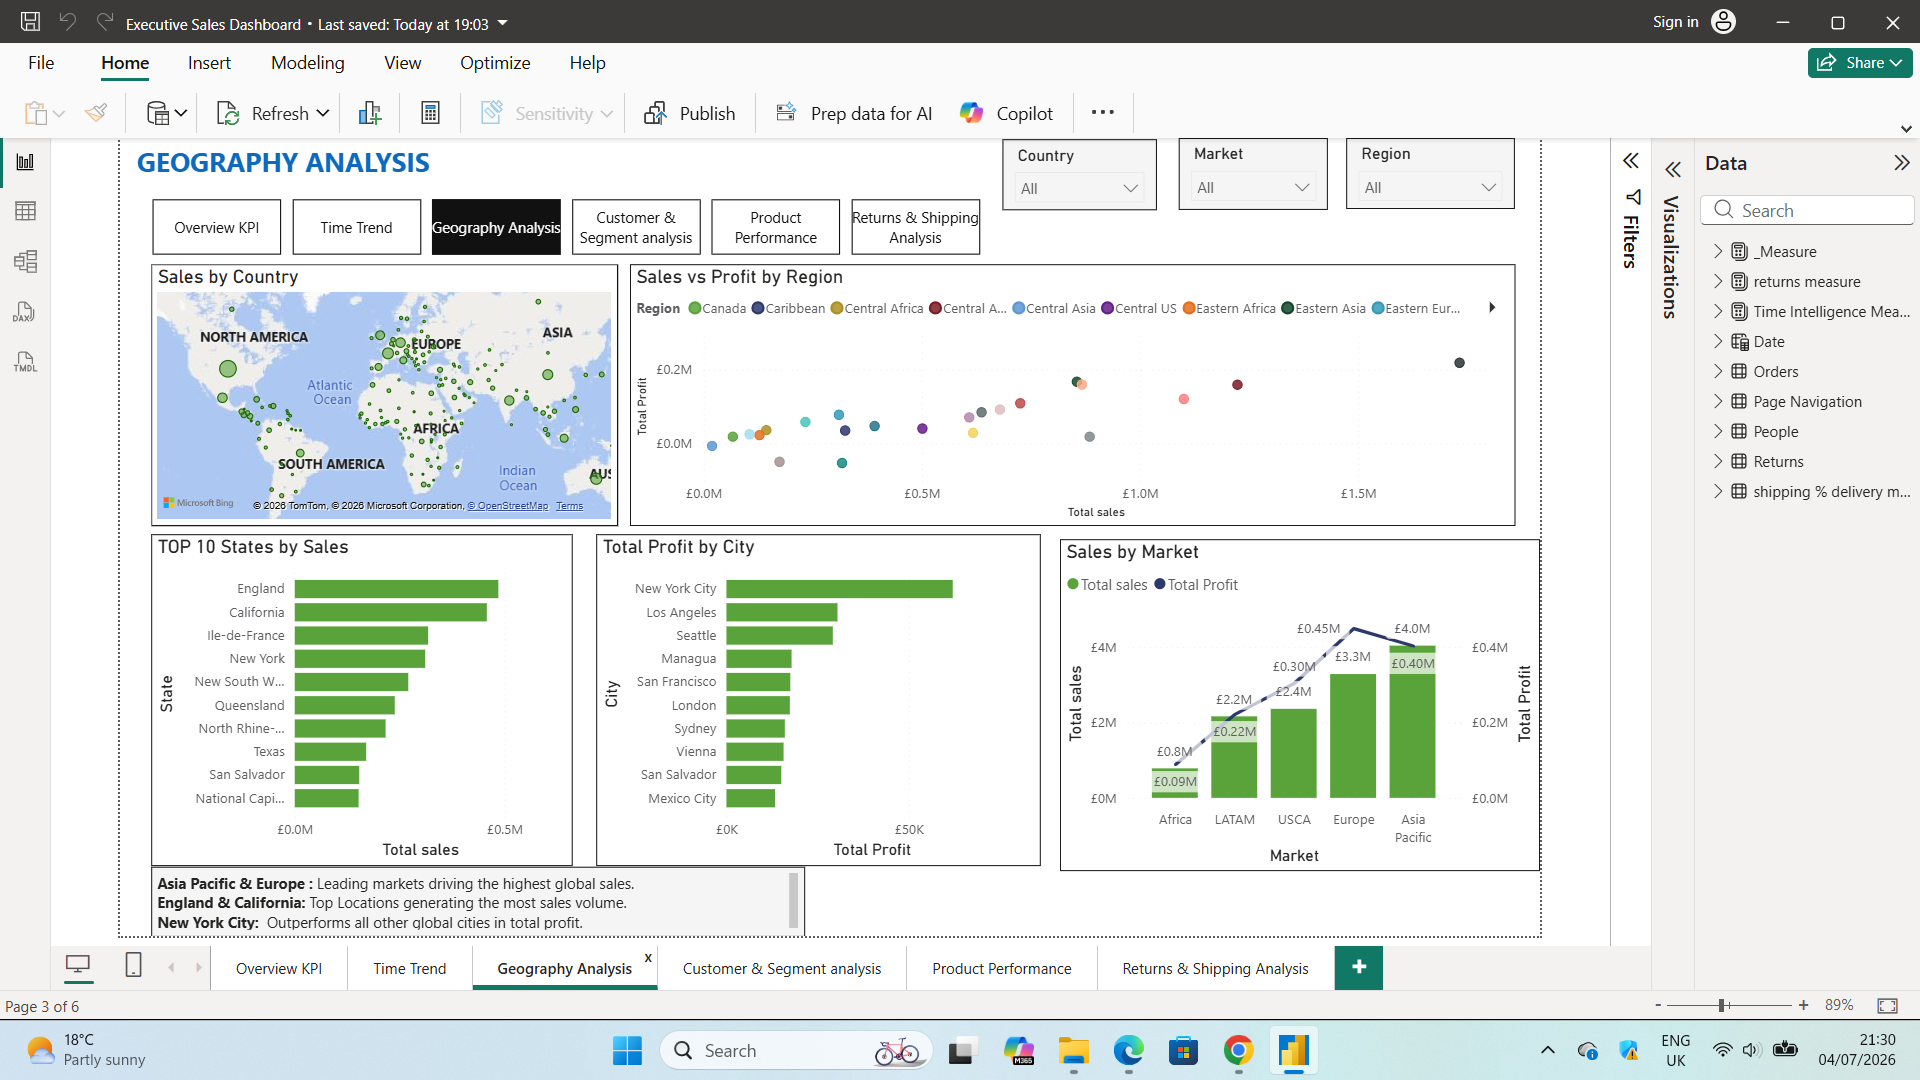

What the dashboard file says about the page in this screenshot:
{"tool":"powerbi","page":{"name":"Geography Analysis","canvas":[1280,720],"ordinal":2},"visuals":[{"type":"textbox","box":[9.8,0,280,55],"z":0},{"type":"lineClusteredColumnComboChart","title":"Sales by Market","fields":{"Category":["Orders.Market"],"Y":["_Measure.Total sales"],"Y2":["_Measure.Total Profit"]},"box":[847.3,361.7,432.7,299.1],"z":1000},{"type":"scatterChart","title":"Sales vs Profit by Region","fields":{"X":["_Measure.Total sales"],"Y":["_Measure.Total Profit"],"Series":["Orders.Region"]},"box":[459.8,114.2,798.2,235.7],"z":2000},{"type":"map","title":"Sales by Country","fields":{"Category":["Orders.Country"],"Size":["_Measure.Total sales"]},"box":[28.5,114.2,420.8,235.8],"z":3000},{"type":"clusteredBarChart","title":"TOP 10 States by Sales","fields":{"Category":["Orders.State"],"Y":["_Measure.Total sales"]},"box":[28.5,357.5,379.8,299.2],"z":4000},{"type":"barChart","fields":{"Category":["Orders.City"],"Y":["_Measure.Total Profit"]},"box":[429.5,357.5,400.9,299.2],"z":5000},{"type":"slicer","fields":{"Values":["Orders.Market"]},"box":[954.4,0,134.5,65.1],"z":6000},{"type":"slicer","fields":{"Values":["Orders.Region"]},"box":[1106.2,0,151.8,63.6],"z":7000},{"type":"slicer","fields":{"Values":["Orders.Country"]},"box":[795.3,1.4,138.8,63.6],"z":8000},{"type":"pageNavigator","box":[28.9,54.9,746.1,50.6],"z":9000},{"type":"textbox","box":[28.5,656.6,589.6,63.3],"z":10000}]}

Visuals, with their boxes on the page's 1280x720 design canvas (x1, y1, x2, y2). These are canvas units, not pixel positions in the 1920x1080 screenshot, which may show the page scaled, cropped or inside an application window:
textbox: {"x1": 10, "y1": 0, "x2": 290, "y2": 55}
"Sales by Market" lineClusteredColumnComboChart: {"x1": 847, "y1": 362, "x2": 1280, "y2": 661}
"Sales vs Profit by Region" scatterChart: {"x1": 460, "y1": 114, "x2": 1258, "y2": 350}
"Sales by Country" map: {"x1": 28, "y1": 114, "x2": 449, "y2": 350}
"TOP 10 States by Sales" clusteredBarChart: {"x1": 28, "y1": 358, "x2": 408, "y2": 657}
barChart - Orders.City x _Measure.Total Profit: {"x1": 430, "y1": 358, "x2": 830, "y2": 657}
slicer - Orders.Market: {"x1": 954, "y1": 0, "x2": 1089, "y2": 65}
slicer - Orders.Region: {"x1": 1106, "y1": 0, "x2": 1258, "y2": 64}
slicer - Orders.Country: {"x1": 795, "y1": 1, "x2": 934, "y2": 65}
pageNavigator: {"x1": 29, "y1": 55, "x2": 775, "y2": 106}
textbox: {"x1": 28, "y1": 657, "x2": 618, "y2": 720}
